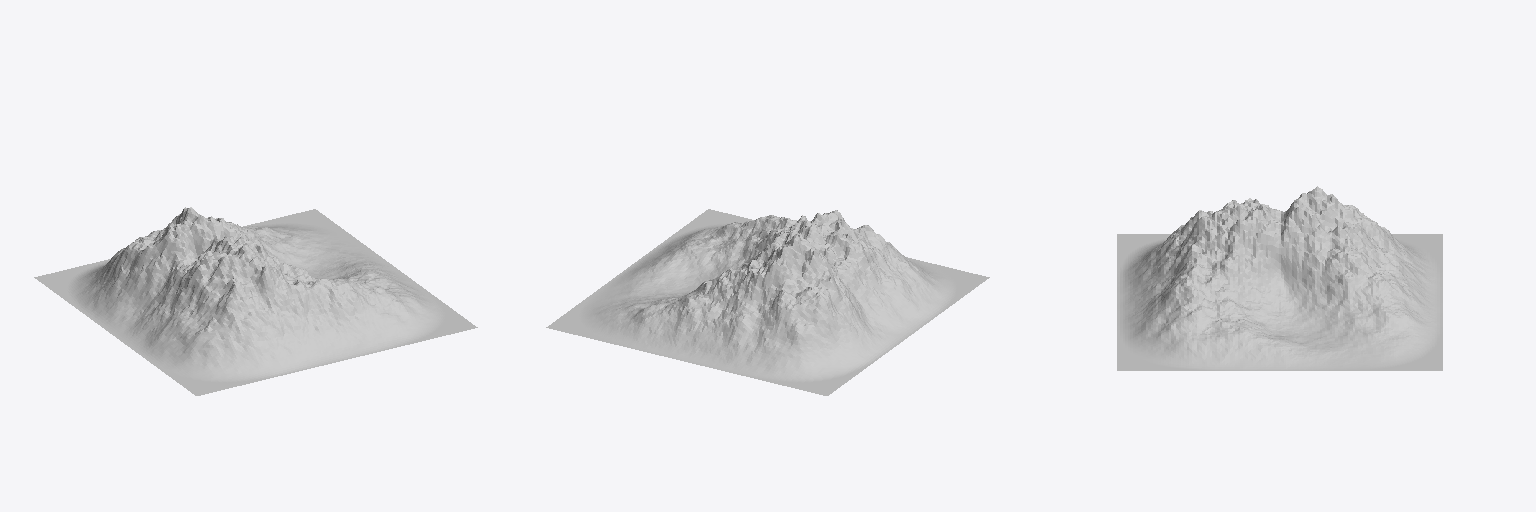
File: Landscape.obj
The picture shows the model from 3 angles: view 1: azimuth 30°, elevation 25°; view 2: azimuth 150°, elevation 25°; view 3: azimuth 270°, elevation 25°; orthographic projection.
Parts seen in each view (by area): view 1: Landscape; view 2: Landscape; view 3: Landscape.
Boxes of the visible parts, <box> form: Landscape: <box>34,207,477,395</box>; Landscape: <box>546,209,989,395</box>; Landscape: <box>1117,186,1442,370</box>.
Size of the model in its own units: 200 by 63.38 by 200.